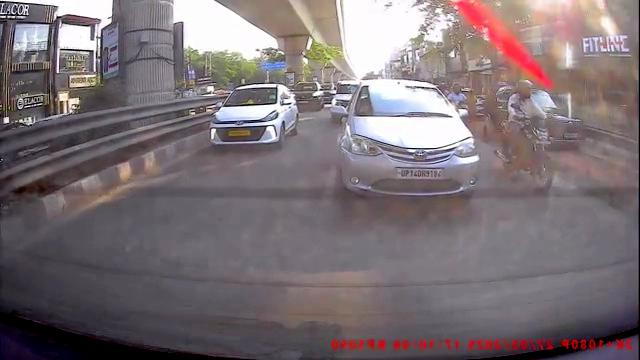motorcycle_with_helmet: (495, 75, 555, 193)
